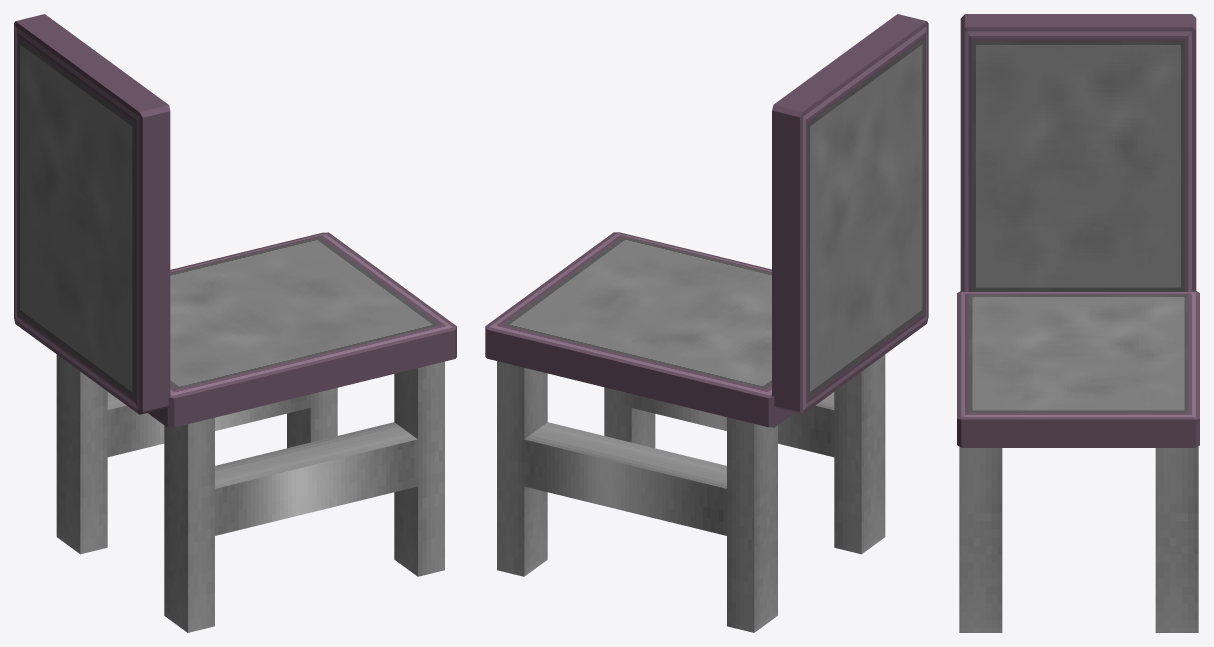
The model's file is Chair.glb.
3 renders of one model, left to right at view 1: azimuth 30°, elevation 25°; view 2: azimuth 150°, elevation 25°; view 3: azimuth 270°, elevation 25°, orthographic. The views are drawn at different scales.
Visible parts, largest first — view 1: Cube.004; view 2: Cube.004; view 3: Cube.004.
Part boxes in pixels (x1=…): Cube.004: x1=14, y1=14, x2=456, y2=632; Cube.004: x1=485, y1=14, x2=928, y2=632; Cube.004: x1=957, y1=14, x2=1199, y2=632.
Size of the model in its own units: 3.16 by 5.04 by 2.29.
Materials: 4 (4 with a texture image).
